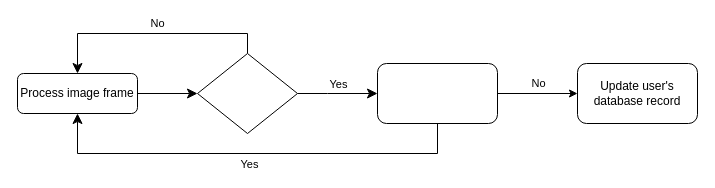
The diagram is 715 pixels wide and 188 high, and some of its shapes have lost their labels. Each missing label, with the box of its shape:
Has attendance been logged for this date?: (376, 62, 498, 124)
Match?: (196, 52, 298, 134)
